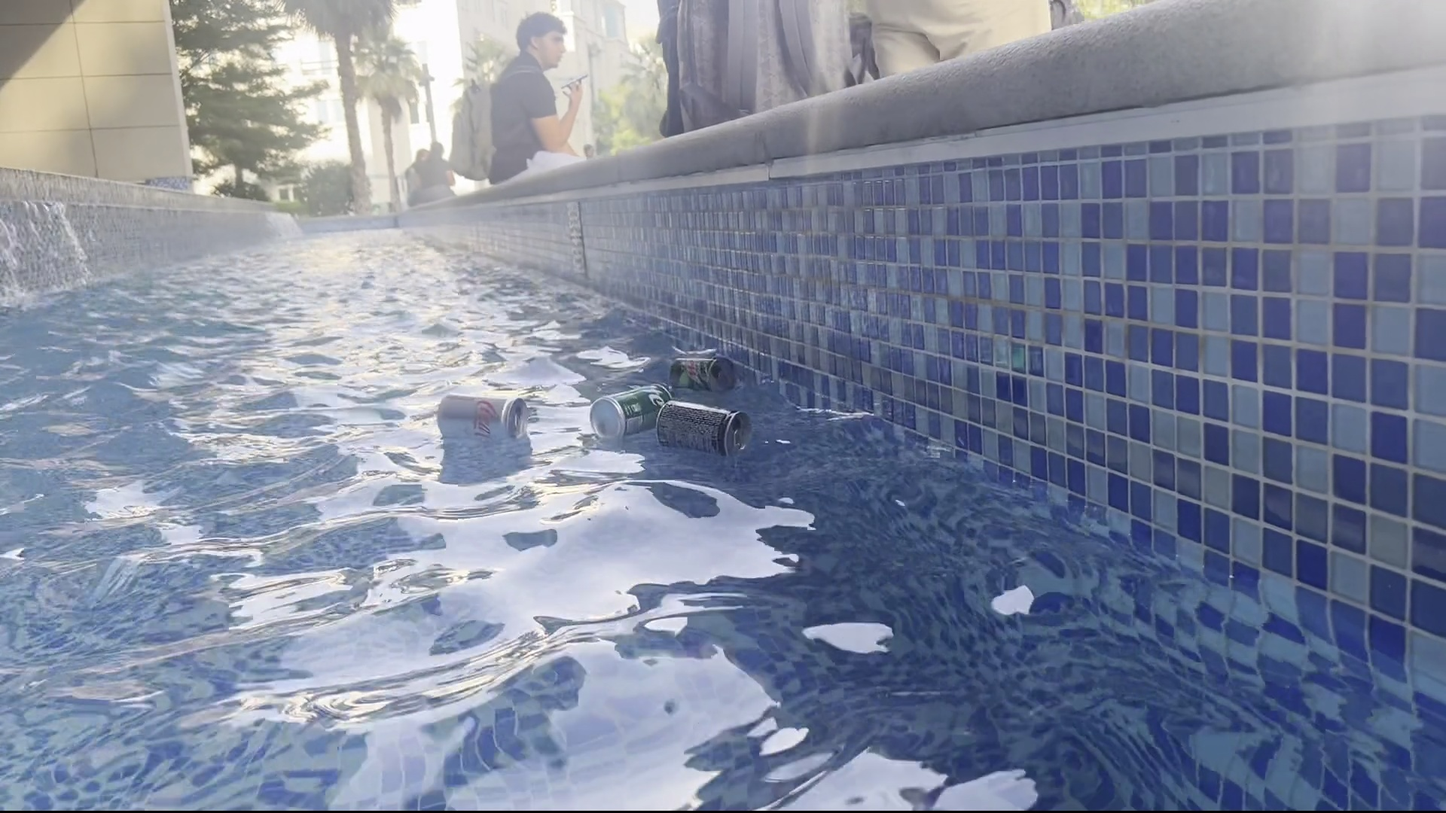debris: (647, 398, 761, 467), (429, 385, 530, 446), (588, 379, 678, 443), (665, 347, 740, 399)
